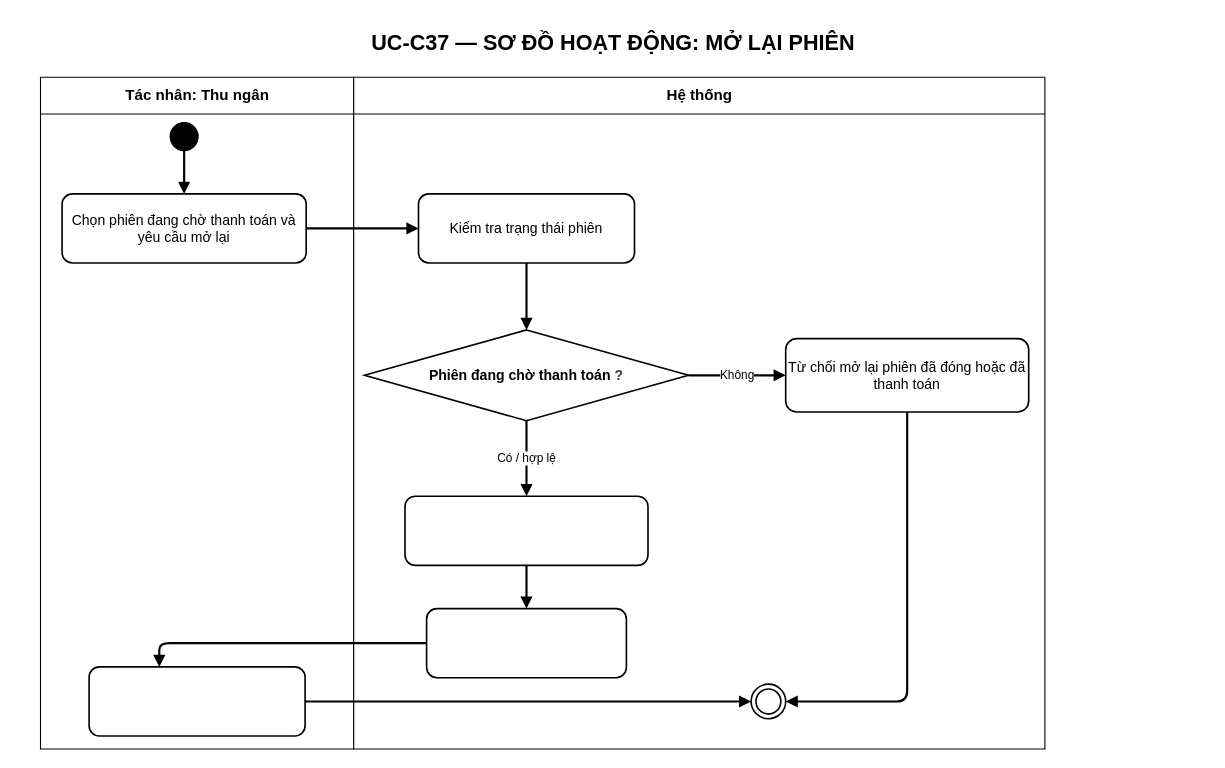
Image size: 1225x768. Some labels were removed from this diagram. Here are the shapes that lost their labels. From the top down, the centre of each, then its label:
At [526,530]: "Đưa phiên về đang phục vụ và xóa mốc yêu cầu tính tiền".
At [526,642]: "Báo các màn hình liên quan phiên vừa mở lại".
At [196,701]: "Bàn tiếp tục nhận đơn mới".
